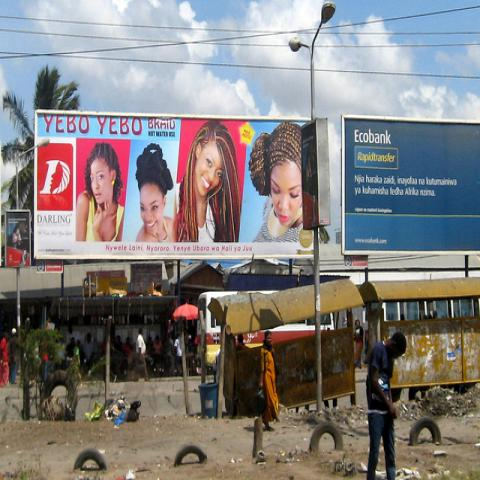bus: (356, 276, 480, 392), (197, 290, 335, 370)
